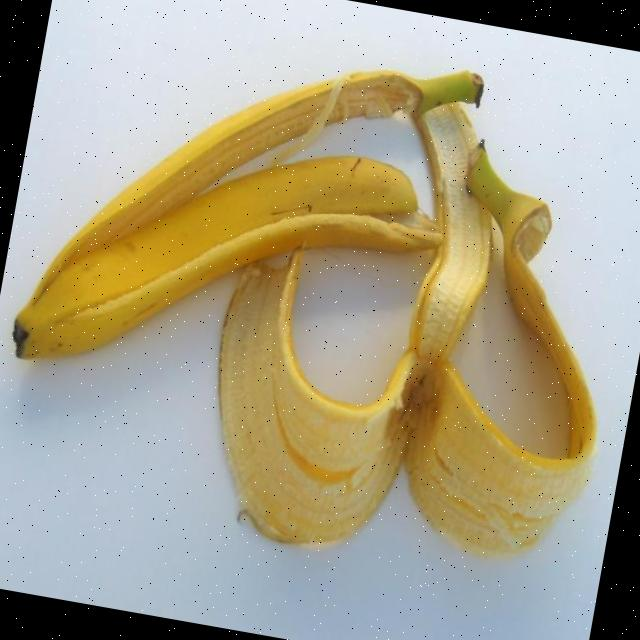banana-peel: (0, 0, 640, 593), (6, 98, 429, 423)
